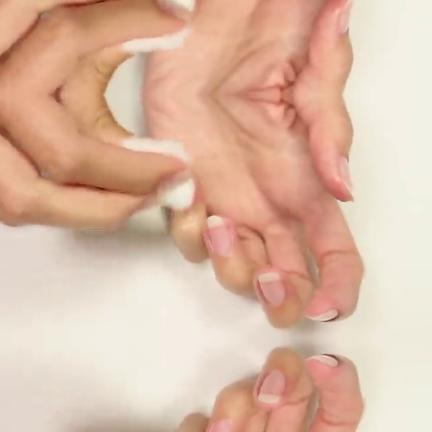Nail: (207, 214, 233, 254), (258, 271, 285, 303), (258, 371, 285, 403), (339, 156, 354, 197), (339, 0, 353, 32), (309, 308, 339, 320), (309, 354, 339, 366), (211, 420, 233, 432)
